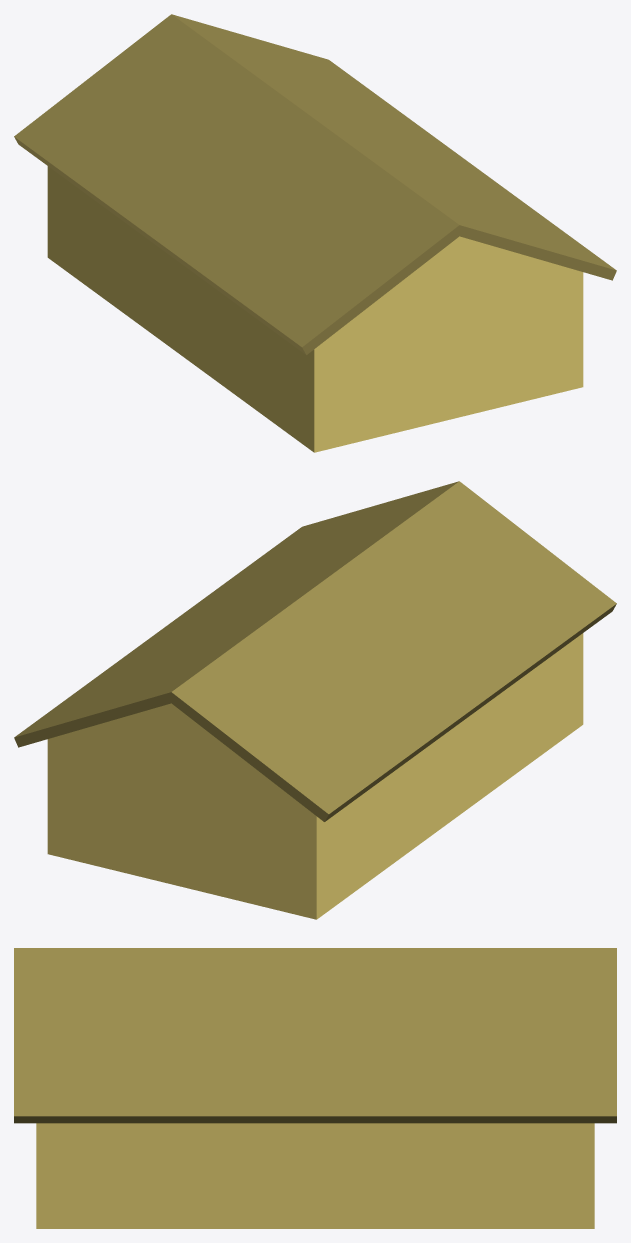
File: result.glb
The picture shows the model from 3 angles, top to bottom: view 1: azimuth 30°, elevation 25°; view 2: azimuth 150°, elevation 25°; view 3: azimuth 270°, elevation 25°; orthographic projection. The views are drawn at different scales.
Visible parts, largest first — view 1: f6a53a9c-fa9f-46dc-abc4-fbfdb07b14e1__undefined (×2), 329ecfc0-d0f0-4485-9ad8-d734f5fa0920__undefined; view 2: f6a53a9c-fa9f-46dc-abc4-fbfdb07b14e1__undefined (×2), 329ecfc0-d0f0-4485-9ad8-d734f5fa0920__undefined; view 3: f6a53a9c-fa9f-46dc-abc4-fbfdb07b14e1__undefined, 329ecfc0-d0f0-4485-9ad8-d734f5fa0920__undefined.
Boxes of the visible parts, x1,y1,x2,y2 form: f6a53a9c-fa9f-46dc-abc4-fbfdb07b14e1__undefined (×2): (14,14,616,354); 329ecfc0-d0f0-4485-9ad8-d734f5fa0920__undefined: (47,166,583,452); f6a53a9c-fa9f-46dc-abc4-fbfdb07b14e1__undefined (×2): (14,481,616,821); 329ecfc0-d0f0-4485-9ad8-d734f5fa0920__undefined: (47,633,583,919); f6a53a9c-fa9f-46dc-abc4-fbfdb07b14e1__undefined: (14,948,616,1123); 329ecfc0-d0f0-4485-9ad8-d734f5fa0920__undefined: (36,1123,594,1228).
Bounding box in the file's own units: 818 × 503 × 1296.
